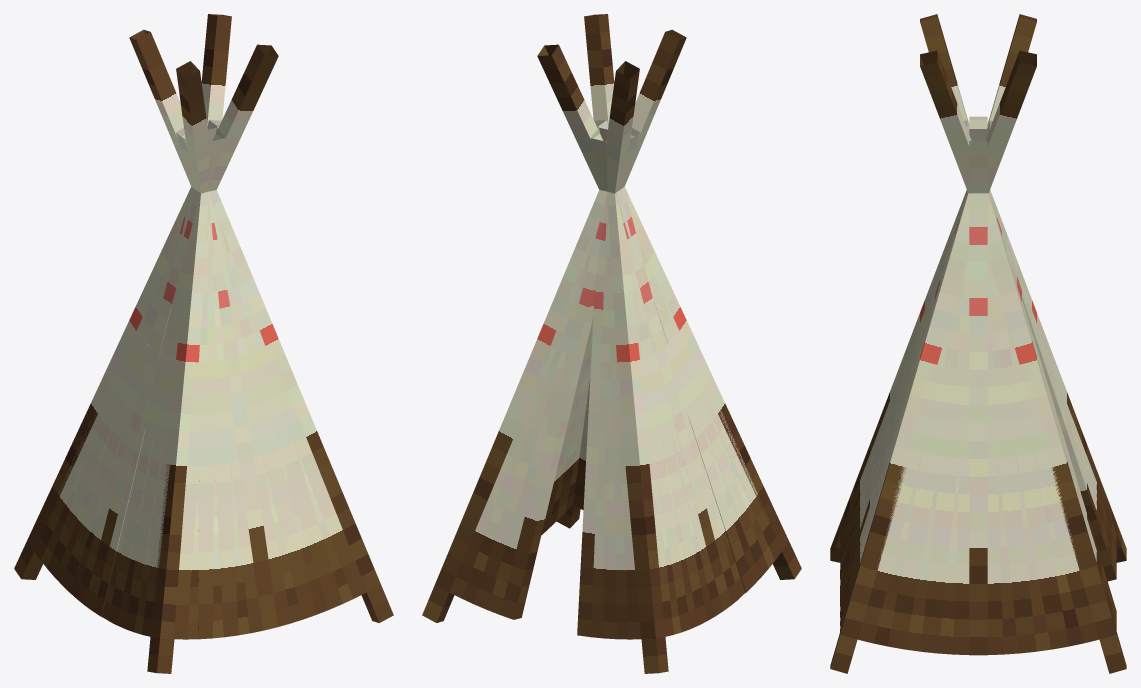
The model's file is tipi.obj.
The picture shows the model from 3 angles, left to right: view 1: azimuth 30°, elevation 25°; view 2: azimuth 150°, elevation 25°; view 3: azimuth 270°, elevation 25°; orthographic projection. The views are drawn at different scales.
Parts seen in each view (by area): view 1: shape5, shape4, shape7, shape3, shape21, shape49, shape50, shape53, shape54, shape48, shape55, shape41 (+22 smaller); view 2: shape7, shape6, shape5, shape59, shape58, shape21, shape8, shape10, shape9, shape11, shape4, shape60 (+21 smaller); view 3: shape6, shape4, shape1, shape34, shape38, shape37, shape33, shape7, shape39, shape5, shape35, shape32 (+27 smaller).
Boxes of the visible parts, left/top/right/bottom form: shape5: left=147, top=14, right=231, bottom=673; shape4: left=129, top=29, right=393, bottom=622; shape7: left=14, top=44, right=278, bottom=579; shape3: left=208, top=193, right=277, bottom=630; shape21: left=84, top=120, right=221, bottom=611; shape49: left=252, top=348, right=342, bottom=610; shape50: left=242, top=352, right=316, bottom=619; shape53: left=212, top=360, right=238, bottom=637; shape54: left=198, top=362, right=214, bottom=639; shape48: left=262, top=344, right=367, bottom=598; shape55: left=173, top=362, right=202, bottom=639; shape41: left=125, top=357, right=175, bottom=632; shape7: left=584, top=14, right=668, bottom=673; shape6: left=422, top=29, right=686, bottom=622; shape5: left=537, top=44, right=801, bottom=579; shape59: left=500, top=222, right=602, bottom=619; shape58: left=577, top=223, right=606, bottom=637; shape21: left=594, top=120, right=731, bottom=611; shape8: left=487, top=193, right=607, bottom=614; shape10: left=462, top=195, right=606, bottom=603; shape9: left=591, top=194, right=608, bottom=638; shape11: left=607, top=192, right=628, bottom=639; shape4: left=557, top=61, right=639, bottom=528; shape60: left=473, top=349, right=561, bottom=609; shape6: left=920, top=14, right=1126, bottom=673; shape4: left=830, top=14, right=1036, bottom=673; shape1: left=969, top=116, right=987, bottom=655; shape34: left=1002, top=365, right=1068, bottom=649; shape38: left=888, top=365, right=954, bottom=649; shape37: left=920, top=367, right=963, bottom=653; shape33: left=994, top=367, right=1036, bottom=653; shape7: left=920, top=50, right=1126, bottom=562; shape39: left=857, top=363, right=943, bottom=643; shape5: left=830, top=50, right=1036, bottom=562; shape35: left=1013, top=363, right=1099, bottom=643; shape32: left=987, top=369, right=1003, bottom=654.
Size of the model in its own units: 0.9927 by 2.23 by 1.03.
